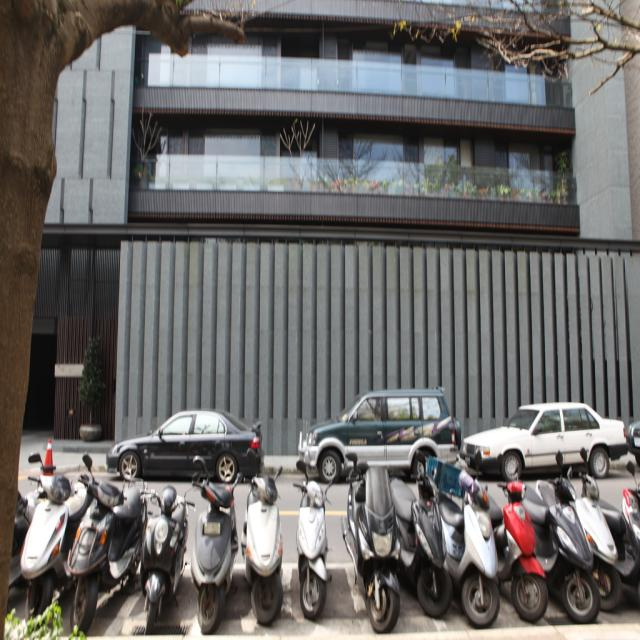car: (461, 409, 626, 495)
